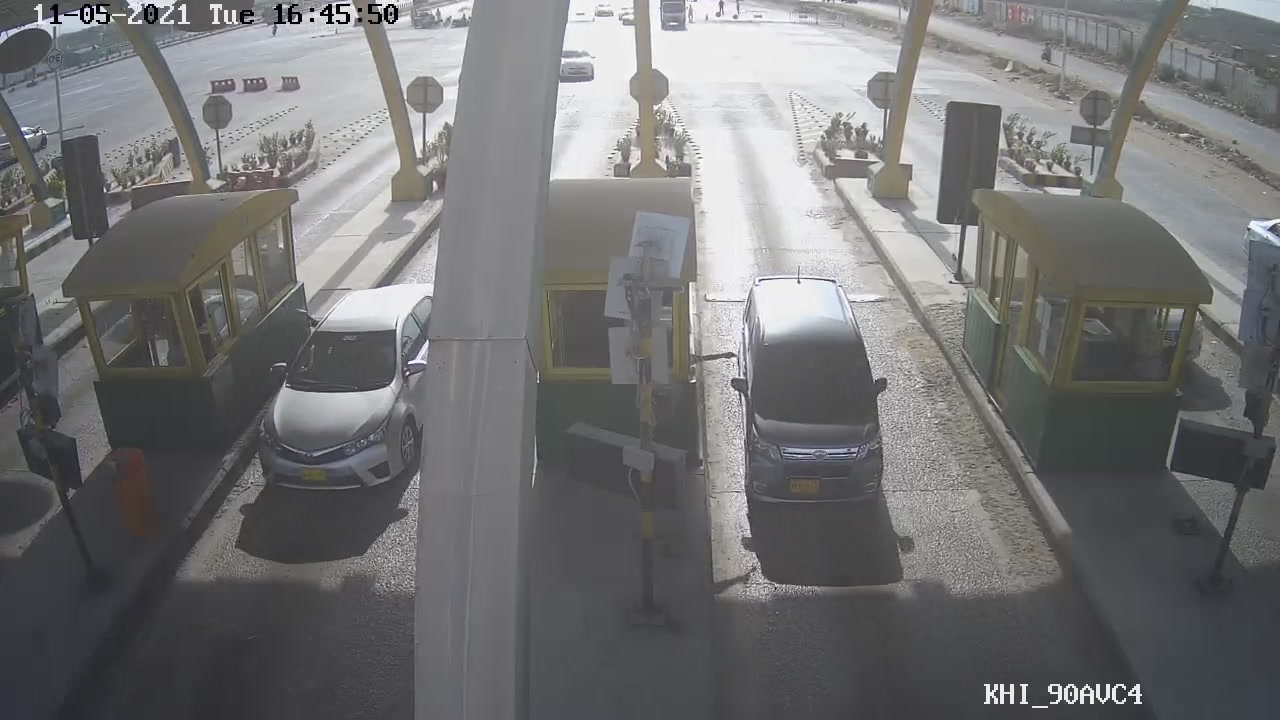F1: (728, 271, 895, 517)
